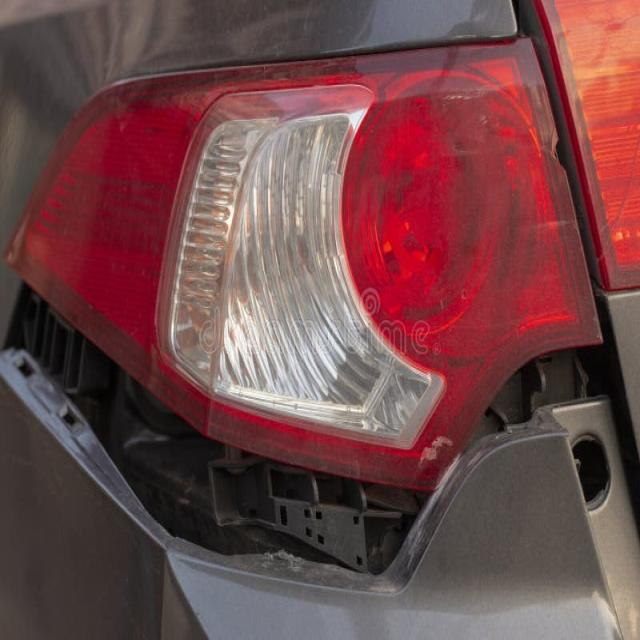misalignment: (0, 284, 640, 640)
